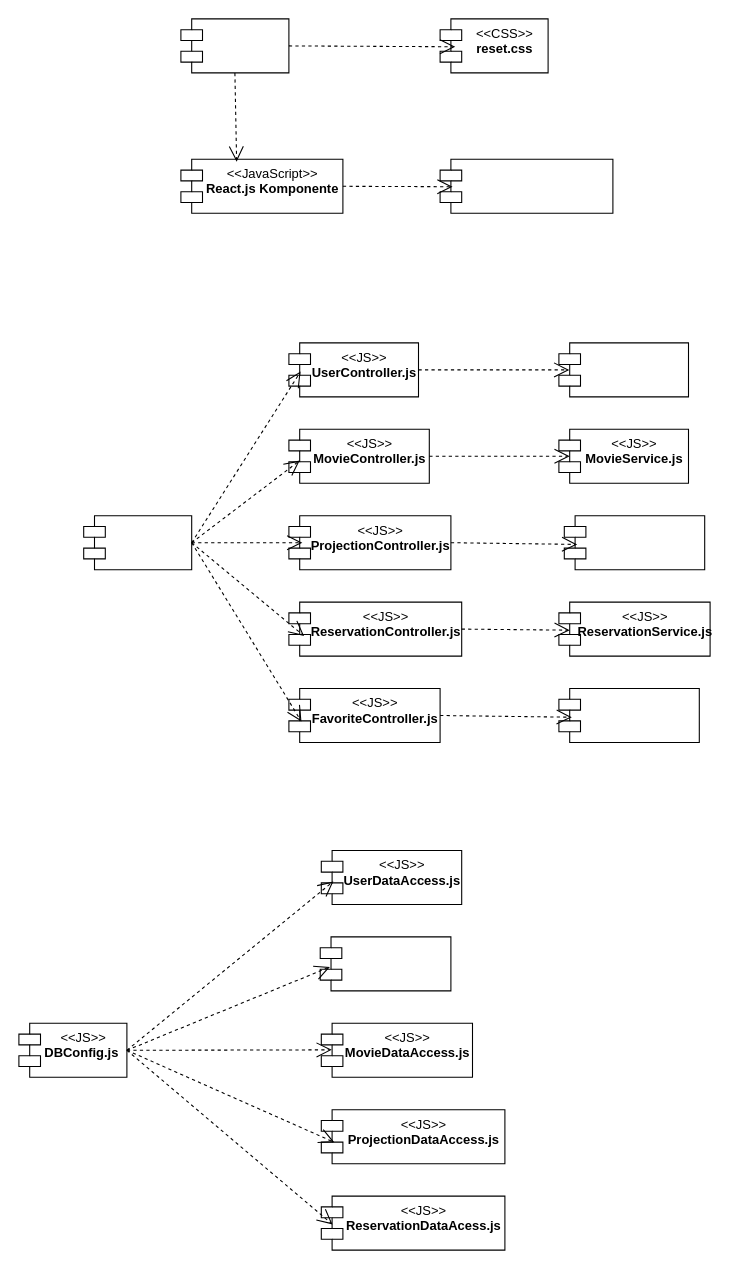
Image size: 731x1269. Some labels were removed from this diagram. The shapes that lost their labels are listed below. From the top down, each one's centre as x and y in pixels, then its label:
point 234,45: <<HTML>> index.html
point 526,185: <<CSS>> Moduli za komponente
point 623,369: <<JS>> UserService.js
point 137,542: <<JS>> app.js
point 634,542: <<JS>> ProjectionService.js
point 628,714: <<JS>> FavoriteService.js
point 385,963: <<JS>> FavoriteData.js
